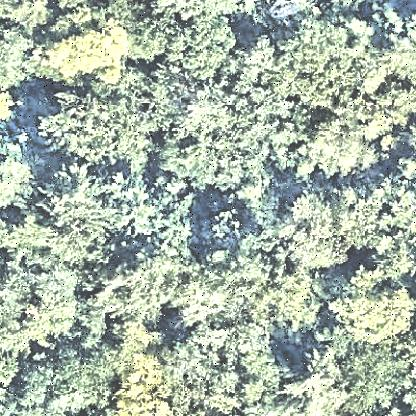tree-top: (160, 96, 266, 198), (274, 17, 381, 111), (176, 323, 286, 413), (98, 162, 204, 251), (35, 91, 161, 163), (1, 250, 81, 345), (21, 339, 115, 415), (283, 187, 369, 269), (38, 170, 108, 266), (334, 268, 416, 349), (35, 22, 135, 86), (190, 251, 273, 326), (351, 182, 416, 276), (330, 346, 411, 416), (210, 191, 291, 259), (100, 256, 180, 324), (101, 1, 176, 69), (108, 348, 176, 416), (311, 106, 375, 174), (290, 349, 352, 416), (1, 24, 49, 100), (273, 270, 325, 338), (1, 131, 43, 215), (175, 17, 230, 79), (227, 34, 280, 85), (147, 1, 261, 21), (1, 1, 57, 37), (382, 30, 416, 81), (380, 84, 416, 130)
